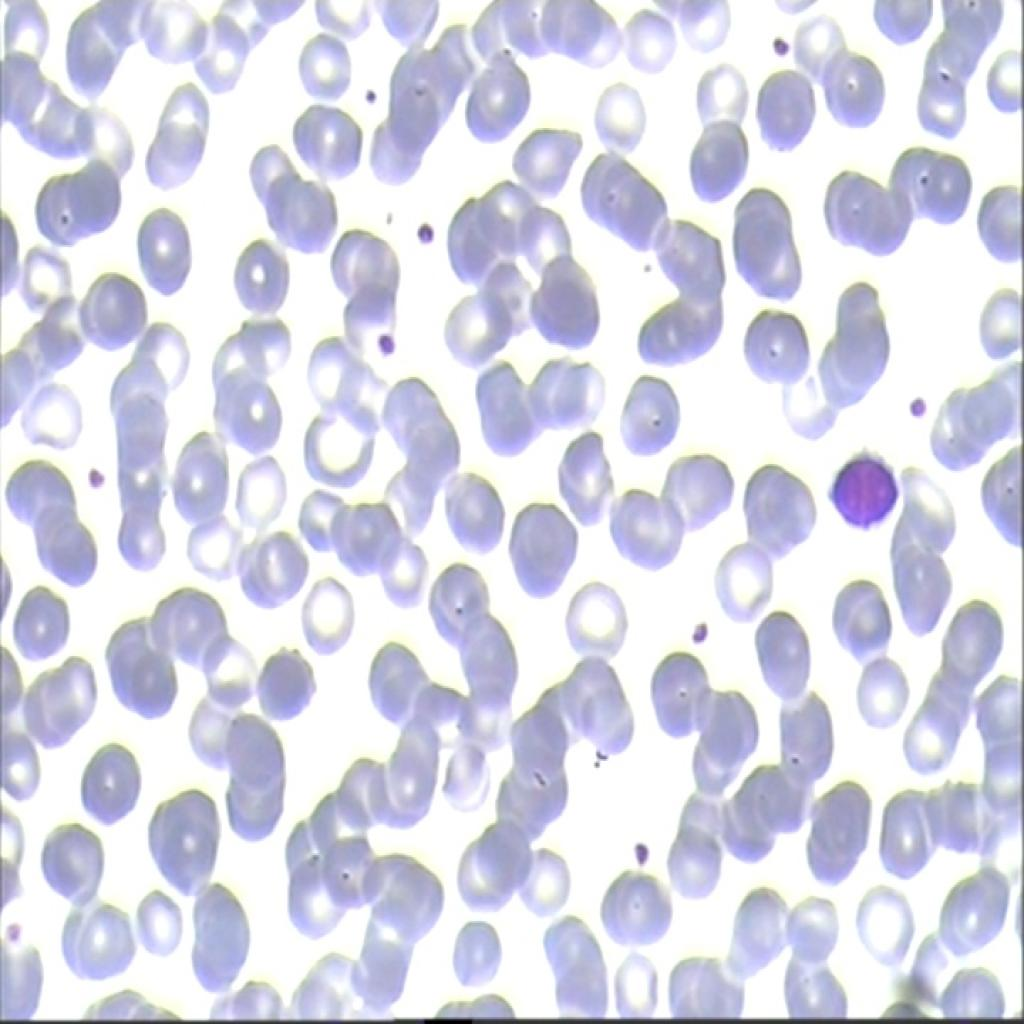Limfosit: (819, 434, 899, 530)
Platelet: (363, 318, 414, 374), (347, 60, 383, 112), (410, 198, 442, 254), (624, 828, 657, 880), (78, 446, 111, 496), (755, 25, 792, 67), (684, 612, 715, 647), (0, 919, 30, 948), (905, 381, 923, 423)
